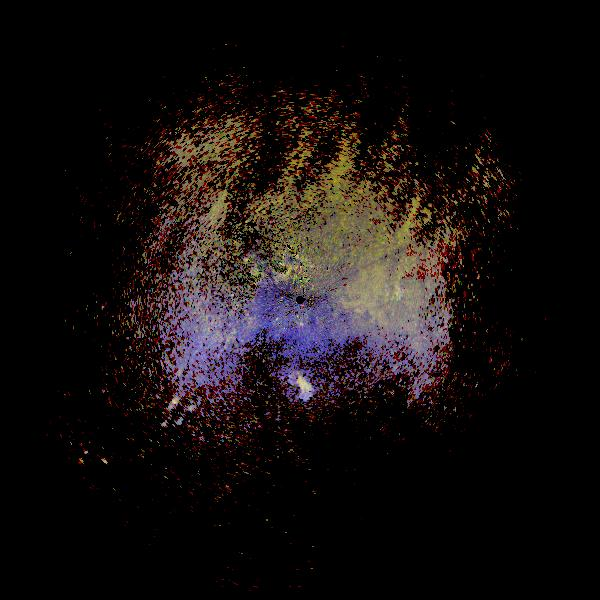roost: (280, 365, 322, 407), (383, 273, 413, 303)
